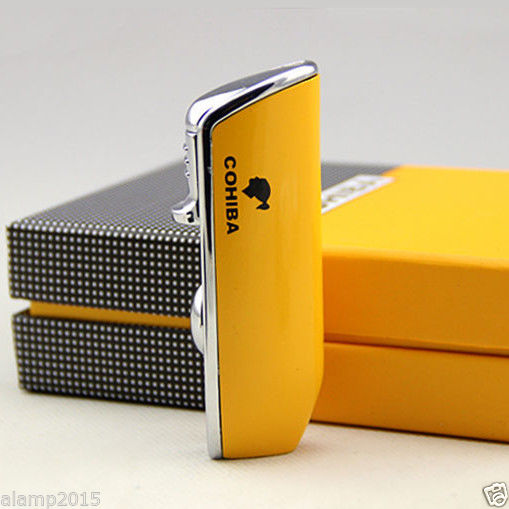Nonrec_Other: (5, 84, 509, 453), (177, 56, 344, 467)
